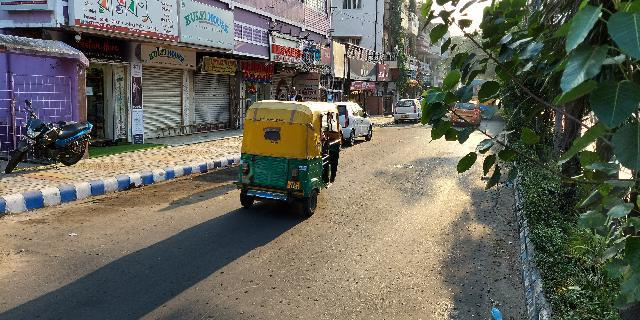Autorickshaw: (234, 97, 345, 217)
Car: (331, 101, 376, 147)
Motorbike: (2, 102, 98, 173)
